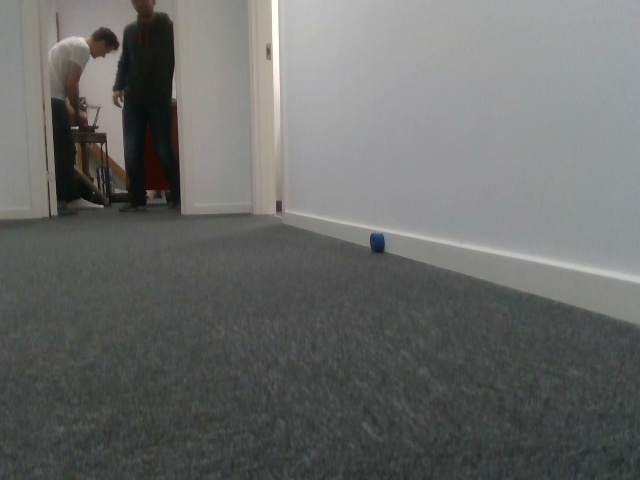alfa: (369, 231, 386, 254)
